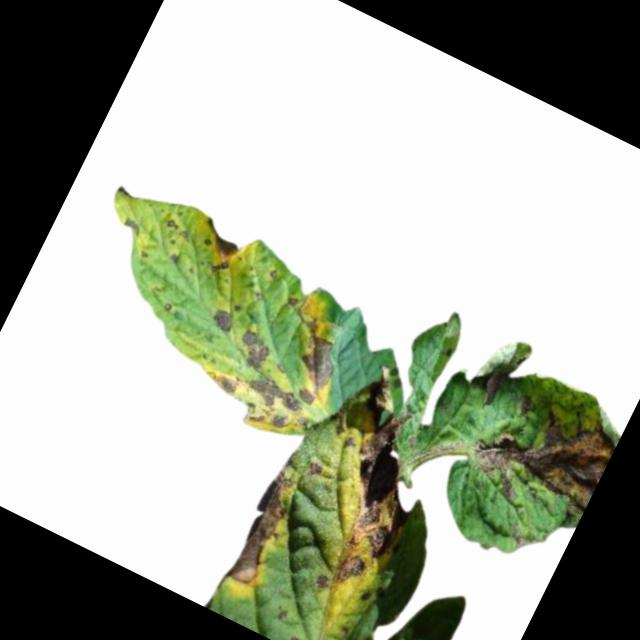Early_blight: (303, 366, 460, 562), (457, 375, 622, 532), (201, 350, 327, 451), (223, 467, 306, 589), (282, 317, 356, 399), (187, 216, 248, 278), (231, 324, 278, 373), (329, 548, 373, 593), (476, 357, 513, 410), (158, 215, 194, 251), (208, 304, 239, 333), (326, 404, 353, 436), (506, 521, 534, 549), (120, 213, 146, 237), (283, 288, 306, 312), (303, 456, 326, 479), (311, 571, 332, 593), (515, 392, 536, 414), (164, 249, 181, 265), (359, 586, 375, 602)
